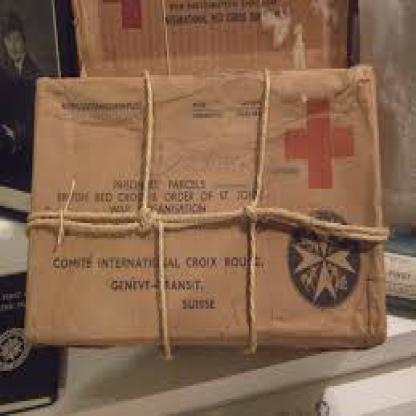paquete: (24, 64, 398, 361)
